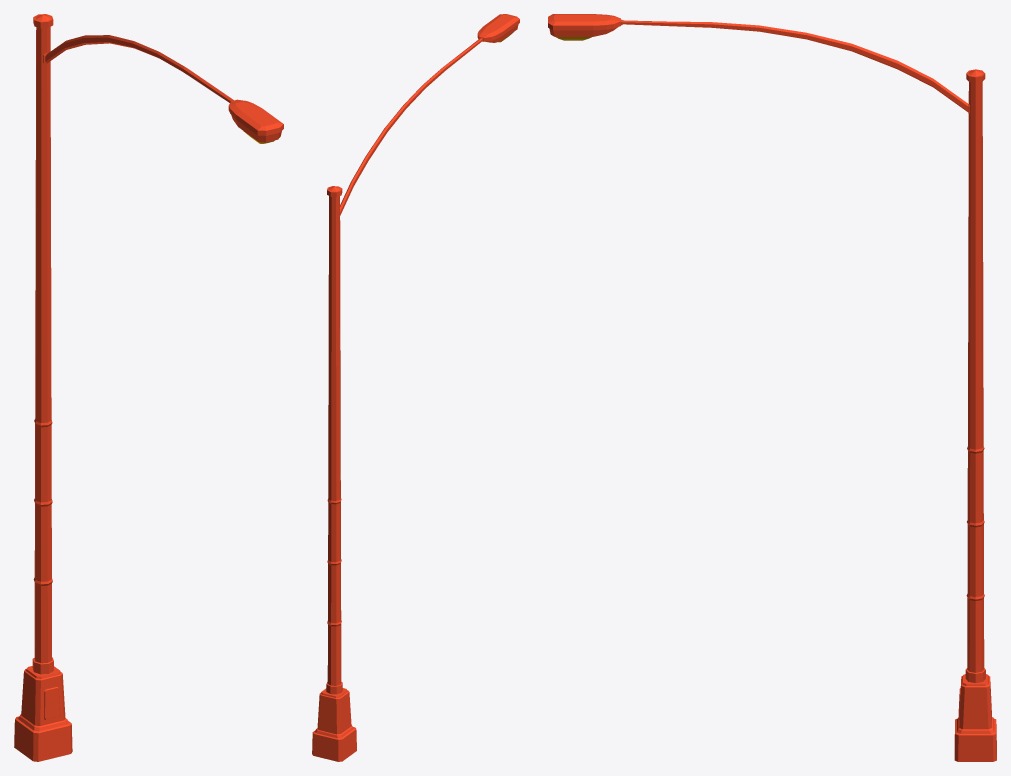
File: SM_Lamp_Street_C_City.fbx
3 views of the same model, side by side, from view 1: azimuth 30°, elevation 25°; view 2: azimuth 150°, elevation 25°; view 3: azimuth 270°, elevation 25° (orthographic). The views are drawn at different scales.
Visible parts, largest first — view 1: SM_Lamp_Street_C_City; view 2: SM_Lamp_Street_C_City; view 3: SM_Lamp_Street_C_City.
Boxes of the visible parts, <box> form: SM_Lamp_Street_C_City: <box>14,14,283,761</box>; SM_Lamp_Street_C_City: <box>312,14,519,761</box>; SM_Lamp_Street_C_City: <box>548,14,996,761</box>.
Bounding box in the file's own units: 0.3466 × 6.64 × 3.67.
